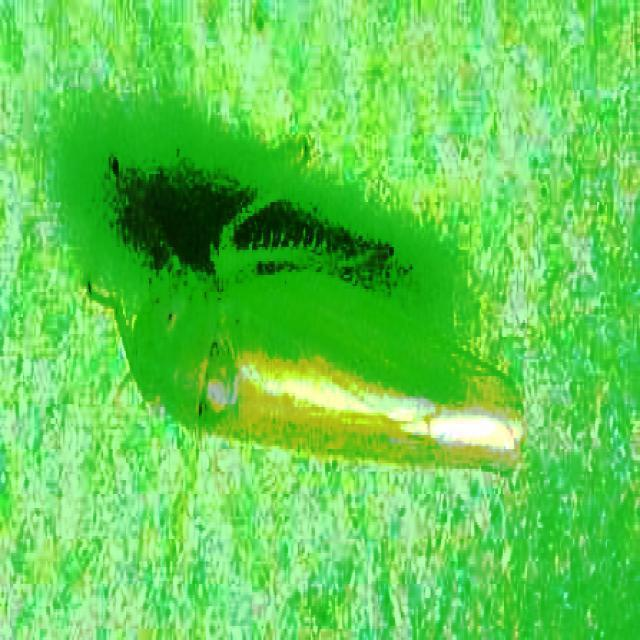green-leafhopper: (104, 227, 520, 481)
